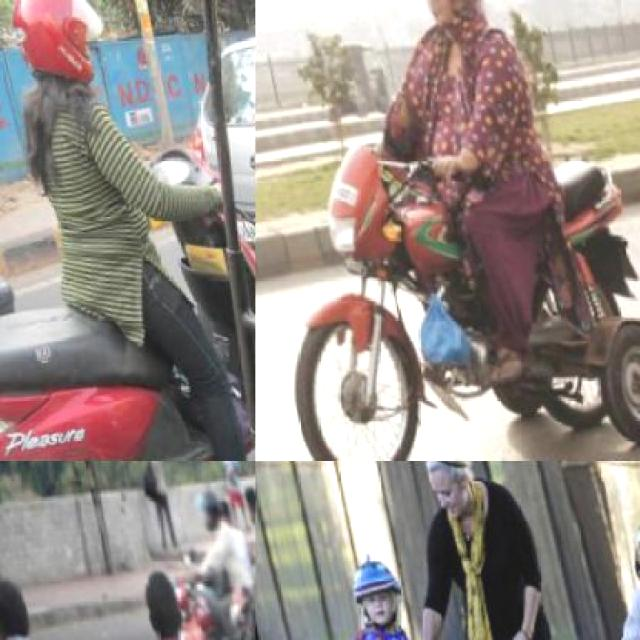With Helmet: (0, 0, 117, 94), (338, 537, 408, 632), (616, 495, 638, 611), (190, 477, 224, 529)
Without Helmet: (137, 562, 189, 638), (0, 568, 29, 637)
